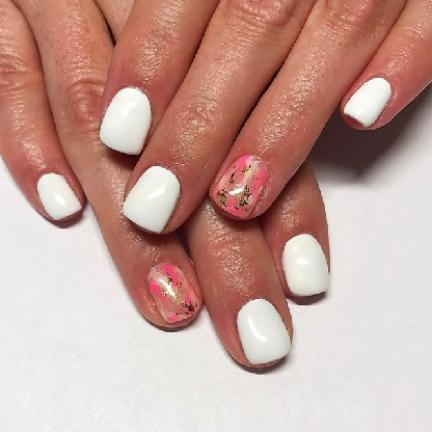Nail: (123, 165, 180, 233), (212, 154, 269, 218), (237, 299, 291, 365), (99, 87, 151, 155), (148, 262, 202, 323), (282, 234, 330, 297), (343, 77, 392, 128), (37, 172, 82, 221)
